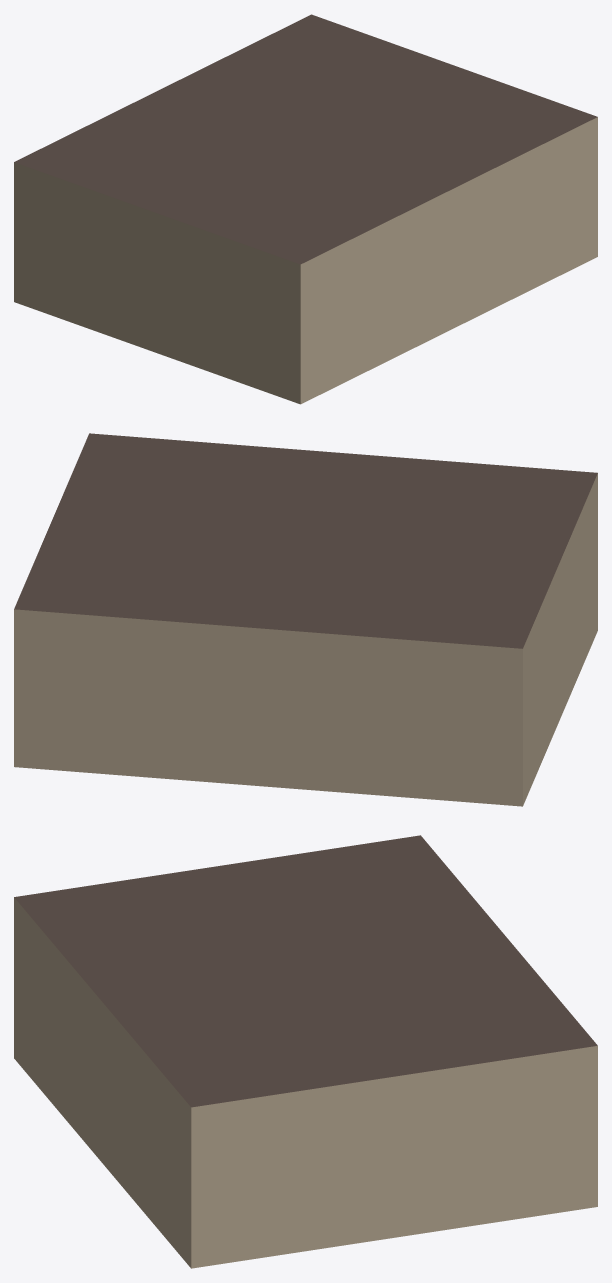
3 views of the same model, one above another, from view 1: azimuth 30°, elevation 25°; view 2: azimuth 150°, elevation 25°; view 3: azimuth 270°, elevation 25° (orthographic). The views are drawn at different scales.
Parts seen in each view (by area): view 1: HP-w369342558; view 2: HP-w369342558; view 3: HP-w369342558.
Boxes of the visible parts, x1,y1,x2,y2 form: HP-w369342558: (14, 14, 597, 404); HP-w369342558: (14, 433, 597, 806); HP-w369342558: (14, 835, 597, 1268).
Size of the model in its own units: 32.6 by 9 by 29.56.
